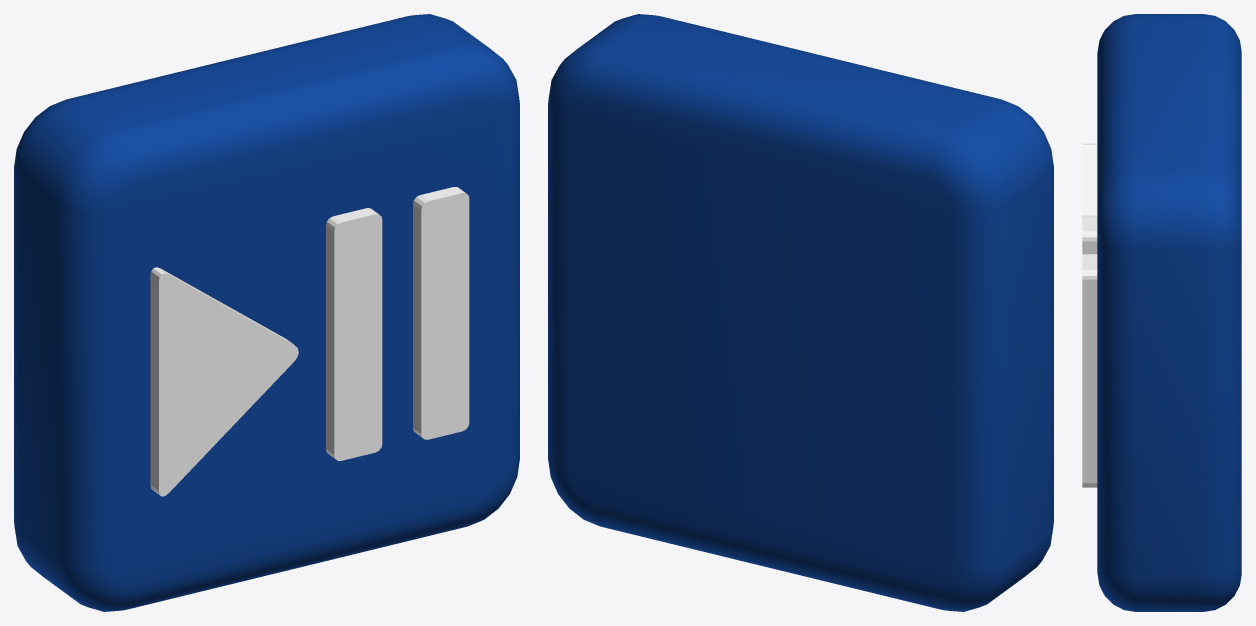
File: play_or_pause_button.glb
3 views of the same model, side by side, from view 1: azimuth 30°, elevation 25°; view 2: azimuth 150°, elevation 25°; view 3: azimuth 270°, elevation 25° (orthographic). The views are drawn at different scales.
Visible parts, largest first — view 1: Cube.6422; view 2: Cube.6422; view 3: Cube.6422.
Boxes of the visible parts, x1,y1,x2,y2 form: Cube.6422: (14,14,519,611); Cube.6422: (548,14,1053,611); Cube.6422: (1082,14,1241,611).
Bounding box in the file's own units: 2.2 × 2.2 × 0.73.
Materials: 1 (1 with a texture image).
